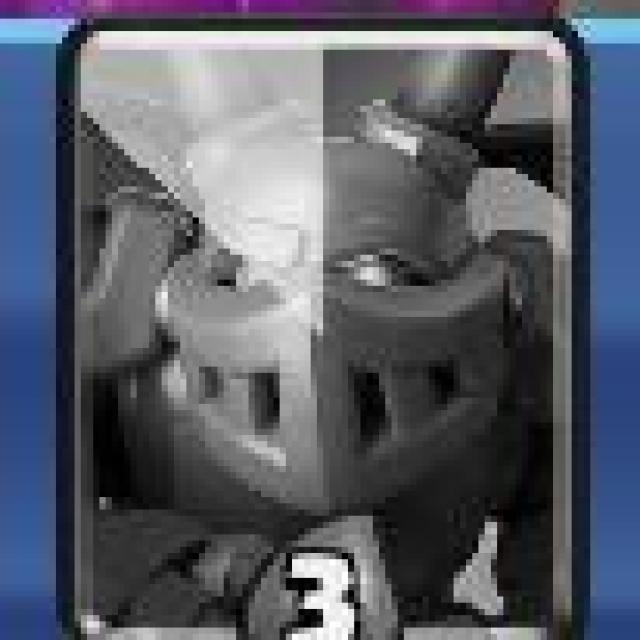Mega_Minion: (67, 26, 574, 640)
